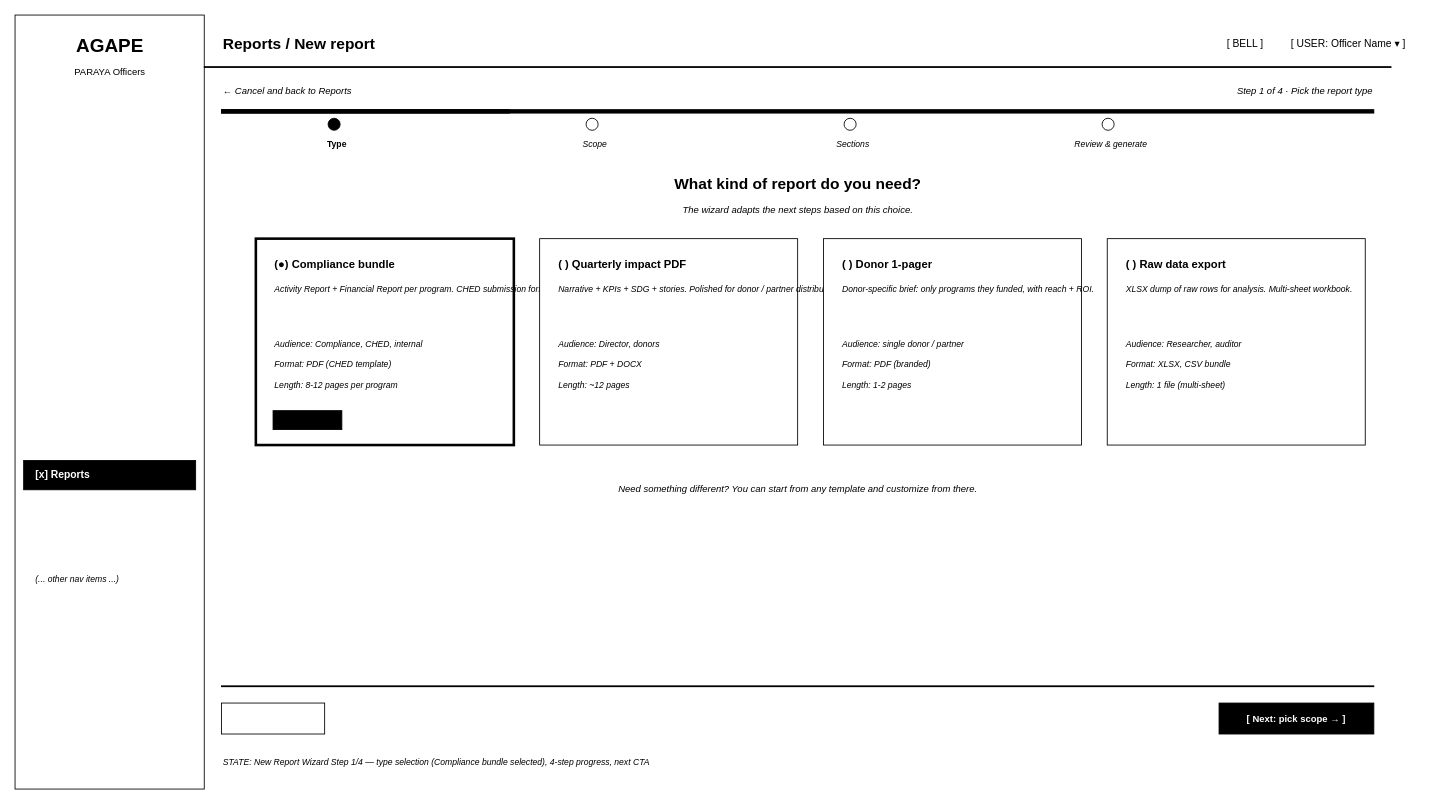
Image size: 1441x804. Some labels were removed from this diagram. The centre of each missing label's shape, as x and y in pixels:
[ Cancel ]: point 273,718
Selected: point 307,420
